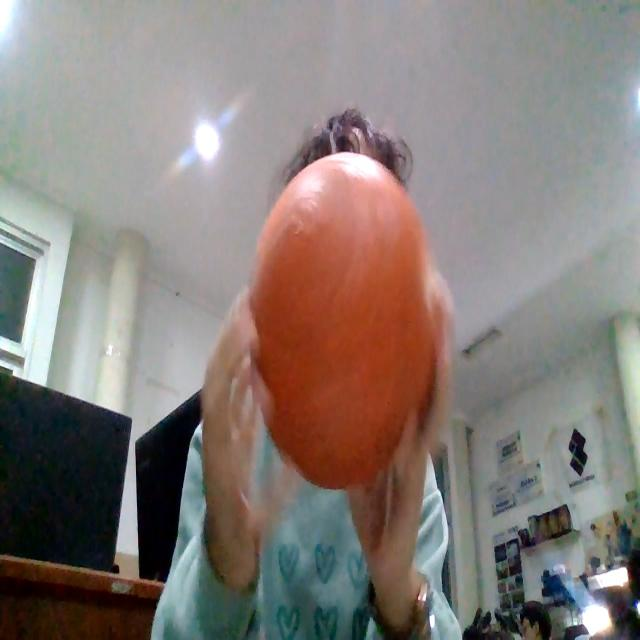ball: (252, 147, 434, 473)
